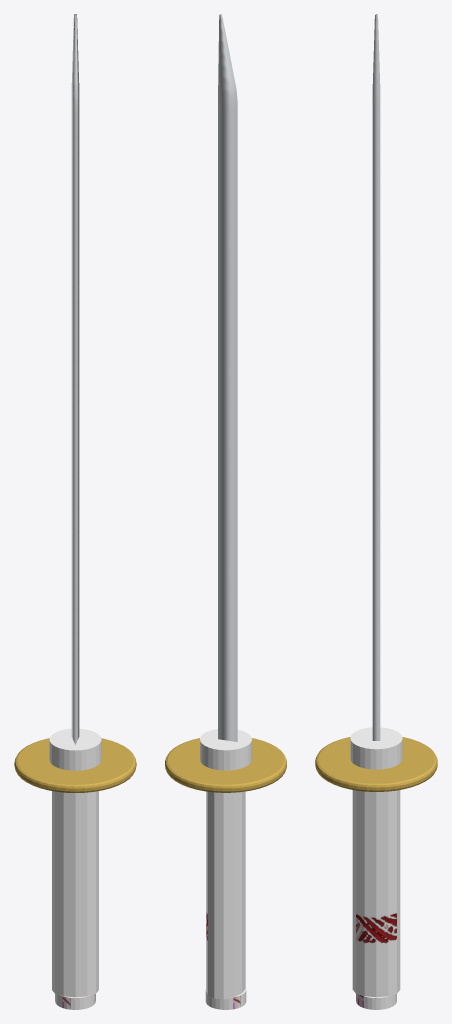
Rendered from alaya_drawn.obj.
The picture shows the model from 3 angles, left to right: view 1: azimuth 90°, elevation 25°; view 2: azimuth 150°, elevation 25°; view 3: azimuth 270°, elevation 25°; orthographic projection.
Visible parts, largest first — view 1: Hilt, Blade, Tsuba, Habaki, Kashira; view 2: Blade, Hilt, Tsuba, Habaki, Kashira; view 3: Hilt, Blade, Tsuba, Habaki, Kashira.
Boxes of the visible parts, x1,y1,x2,y2 form: Hilt: (52, 791, 98, 997); Blade: (71, 14, 79, 744); Tsuba: (14, 738, 136, 792); Habaki: (49, 728, 101, 770); Kashira: (55, 994, 95, 1009); Blade: (218, 14, 237, 741); Hilt: (206, 791, 245, 999); Tsuba: (165, 738, 286, 792); Habaki: (200, 729, 251, 770); Kashira: (205, 988, 246, 1009); Hilt: (352, 790, 400, 997); Blade: (372, 14, 380, 740); Tsuba: (315, 737, 437, 791); Habaki: (350, 727, 402, 769); Kashira: (356, 994, 396, 1009).
Bounding box in the file's own units: 0.3 × 2.67 × 0.3.
